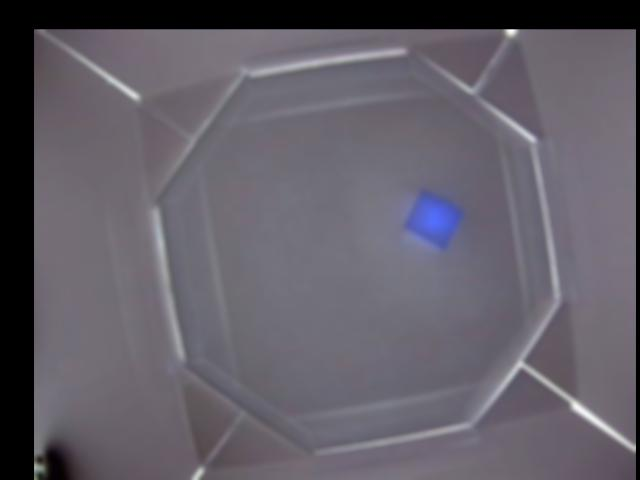Potato: (404, 191, 463, 252)
